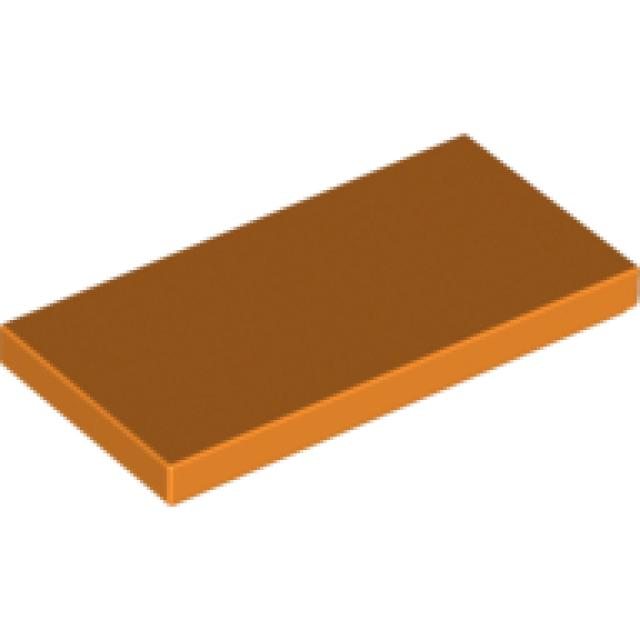Orange_Small: (0, 133, 640, 510)
